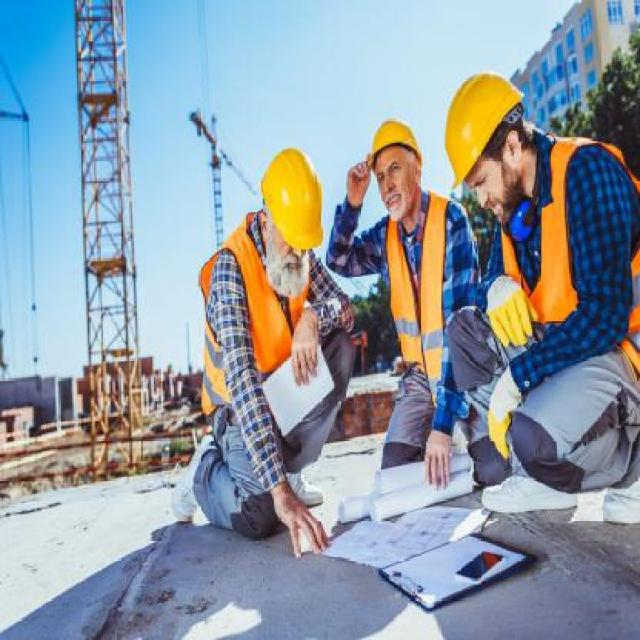Gloves: (484, 276, 542, 348), (485, 362, 526, 459)
Vest: (495, 134, 640, 375), (199, 220, 316, 395), (368, 192, 477, 374)
helmet: (441, 68, 535, 189), (254, 146, 328, 252), (354, 117, 424, 172)
person: (440, 70, 640, 531), (298, 111, 499, 508), (186, 145, 360, 562)
